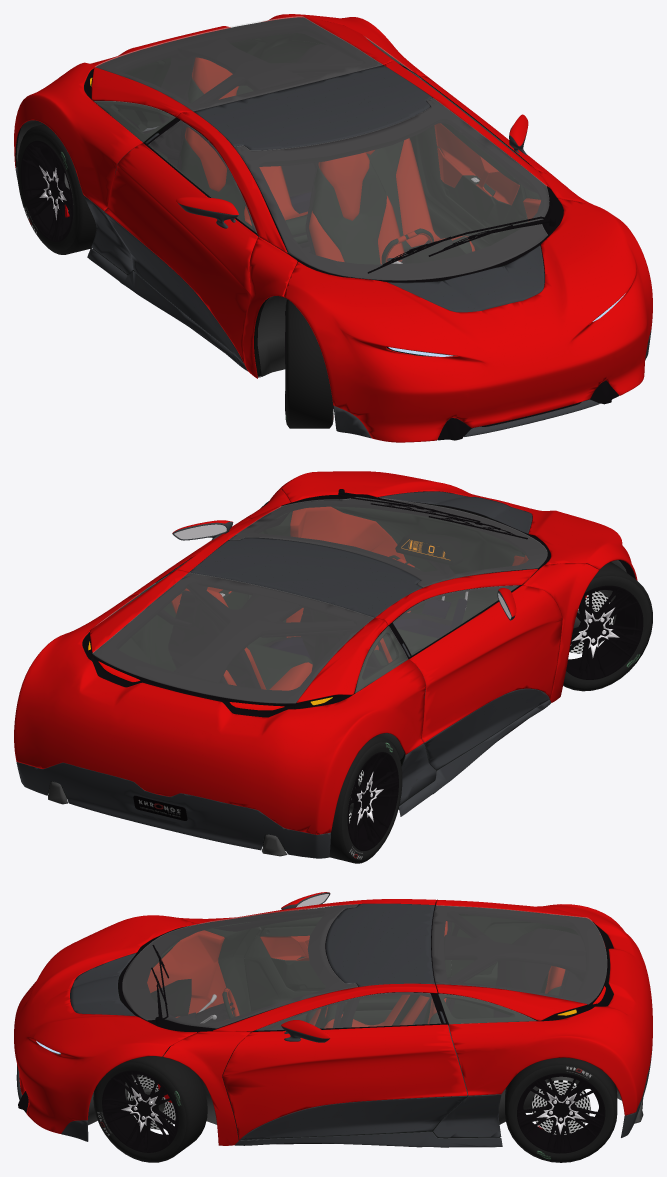
Rendered from car.glb.
3 renders of one model, top to bottom at view 1: azimuth 30°, elevation 25°; view 2: azimuth 150°, elevation 25°; view 3: azimuth 270°, elevation 25°, orthographic. The views are drawn at different scales.
Parts seen in each view (by area): view 1: BodyHood, BodyWindshield, BodyRearwindow, BodyDoorRColor1, BodyRearPanelsColor1, BodyRoofPanel, BodyWindshieldGasket, InteriorSeatsColor1, InteriorSeatsColor2, BodyPillars, InteriorPillar, InteriorRearHatch (+21 smaller); view 2: BodyRearPanelsColor1, BodyRearwindow, BodyWindshield, BodyDoorRColor1, BodyPanelsColor2, BodyRoofPanel, BodyHood, InteriorRearHatch, BodyPillars, InteriorPillar, BodyWindshieldGasket, InteriorDashMid (+22 smaller); view 3: BodyRearPanelsColor1, BodyWindshield, BodyDoorLColor1, BodyHood, BodyRearwindow, BodyRoofPanel, BodyPillars, BodyWindshieldGasket, BodyDoorLColor2, BodyPanelsColor2, WheelFrontL, InteriorRearHatch (+25 smaller).
Boxes of the visible parts, x1,y1,x2,y2 form: BodyHood: (283,198,652,442); BodyWindshield: (234,98,549,280); BodyRearwindow: (95,16,382,110); BodyDoorRColor1: (104,143,257,363); BodyRearPanelsColor1: (14,14,428,210); BodyRoofPanel: (193,65,432,150); BodyWindshieldGasket: (234,99,563,282); InteriorSeatsColor1: (185,57,475,264); InteriorSeatsColor2: (180,78,472,264); BodyPillars: (176,61,598,378); InteriorPillar: (158,37,434,168); InteriorRearHatch: (93,17,383,117); BodyRearPanelsColor1: (14,569,425,834); BodyRearwindow: (92,573,373,703); BodyWindshield: (229,497,547,587); BodyDoorRColor1: (409,585,562,742); BodyPanelsColor2: (16,700,550,858); BodyRoofPanel: (189,537,422,617); BodyHood: (279,471,637,580); InteriorRearHatch: (93,573,386,707); BodyPillars: (175,489,599,702); InteriorPillar: (174,574,417,682); BodyWindshieldGasket: (230,497,550,587); InteriorDashMid: (331,502,528,622); BodyRearPanelsColor1: (436,899,652,1115); BodyWindshield: (122,904,357,1028); BodyDoorLColor1: (222,1024,467,1139); BodyHood: (14,915,196,1133); BodyRearwindow: (432,905,606,1003); BodyRoofPanel: (326,903,434,986); BodyPillars: (163,899,437,1145); BodyWindshieldGasket: (118,905,357,1032); BodyDoorLColor2: (240,1096,467,1140); BodyPanelsColor2: (16,1050,652,1147); WheelFrontL: (93,1054,207,1162); InteriorRearHatch: (431,905,606,1020).
Bounding box in the file's own units: 2.54 × 1.15 × 4.36.
Materials: 23 (18 with a texture image).
